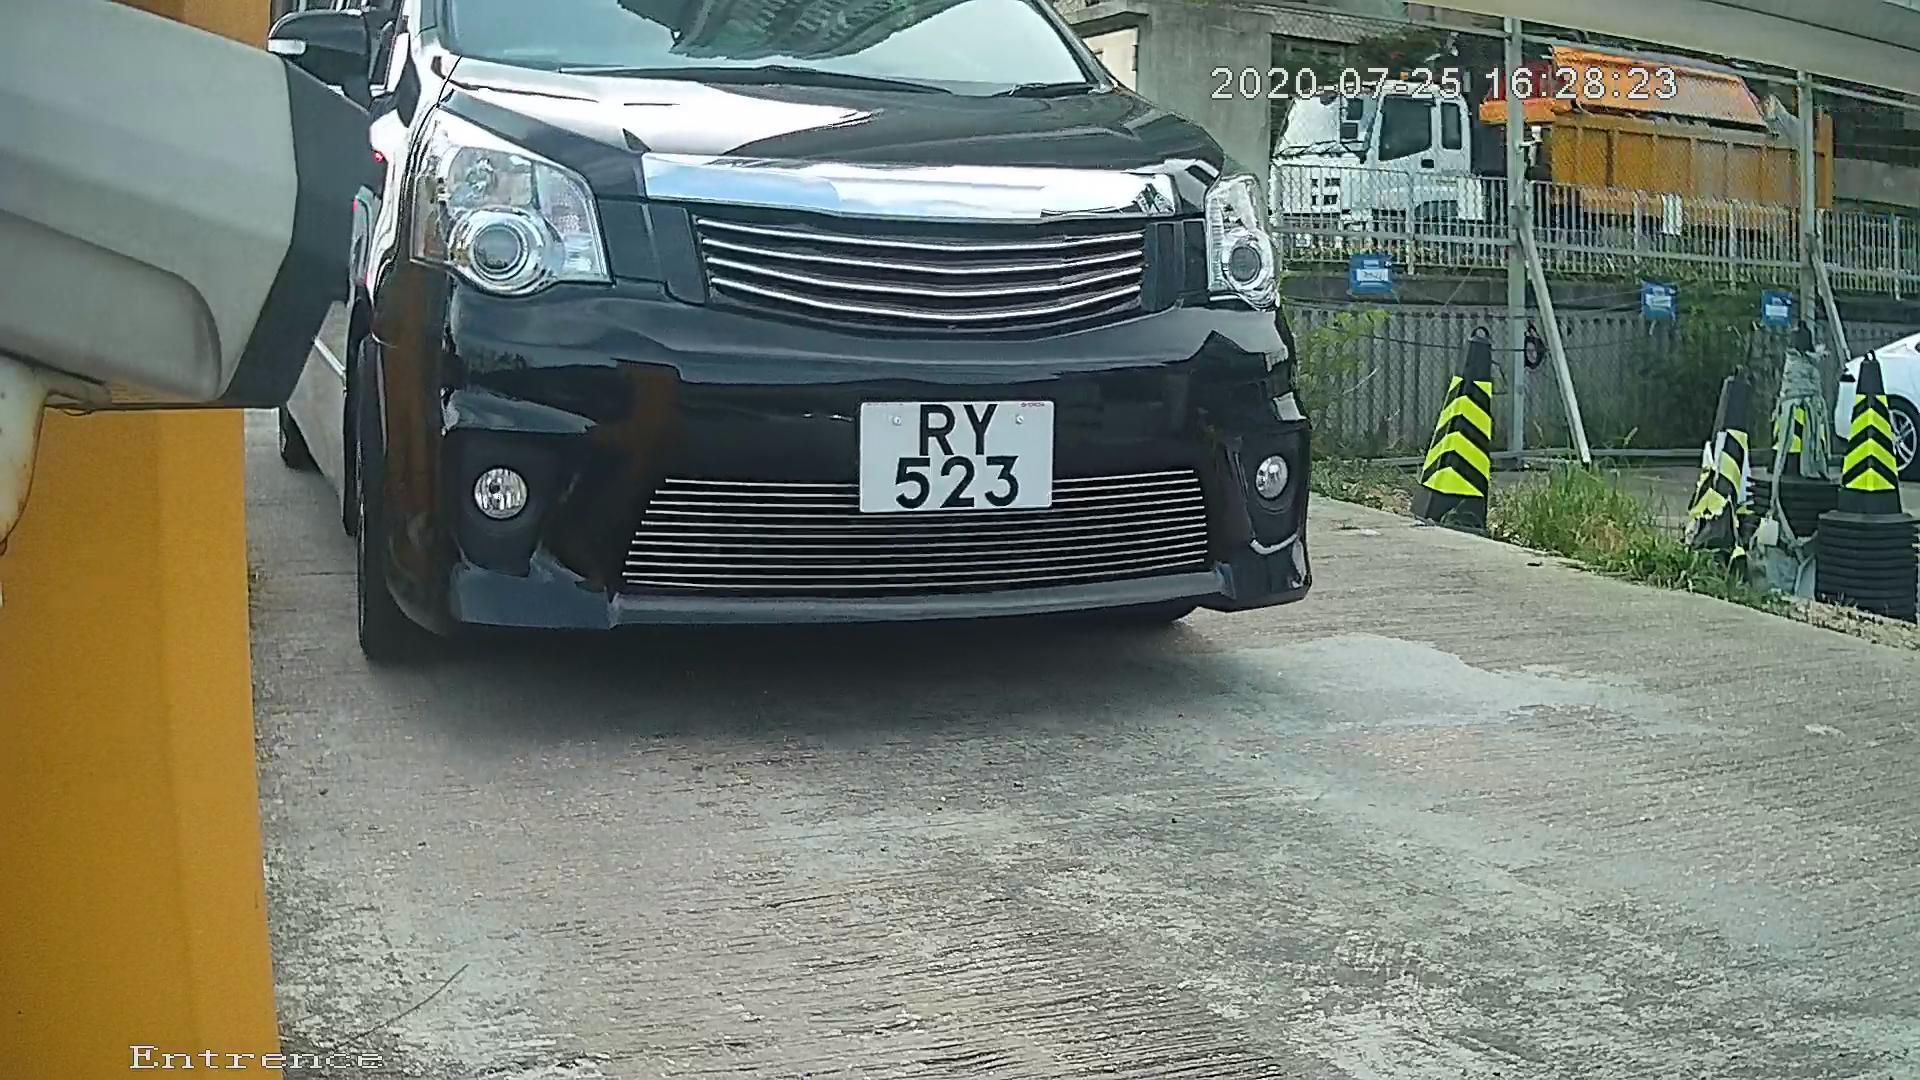privatecar: (204, 3, 1369, 707)
